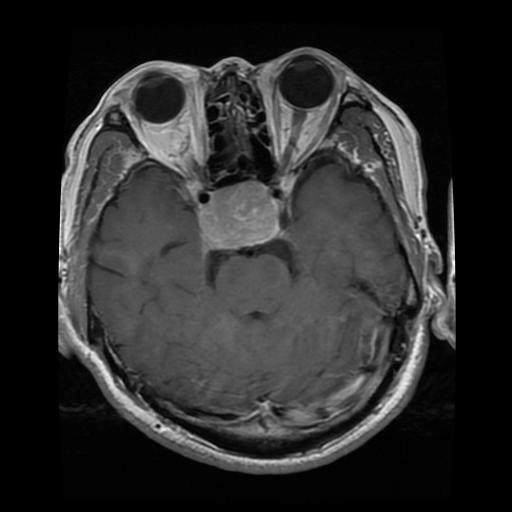Tumour-Pituitary: (190, 179, 295, 264)
